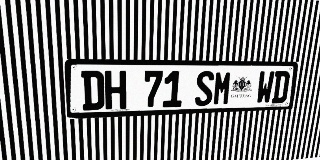1: (163, 71, 183, 107)
7: (142, 71, 163, 108)
D: (81, 71, 104, 110), (271, 71, 290, 103)
H: (105, 71, 126, 110)
M: (212, 71, 232, 106)
S: (194, 71, 215, 106)
W: (255, 71, 275, 104)
